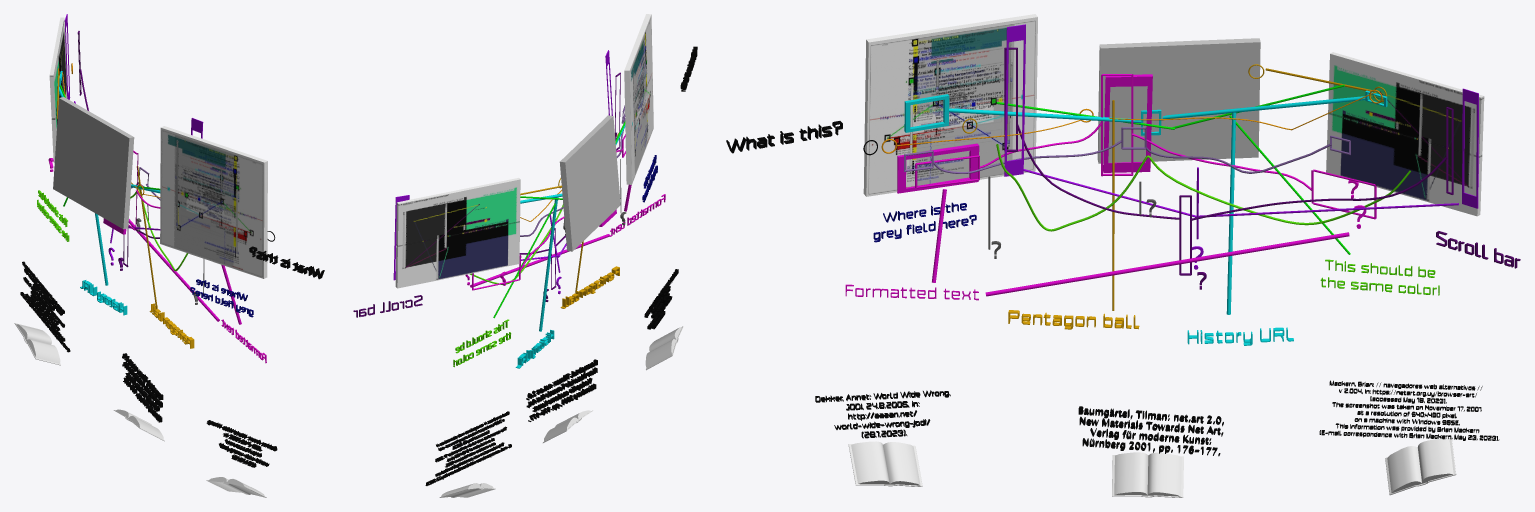
File: JULY_NEW_SCREENSHOT_DIAGRAM_MODEL.fbx
The picture shows the model from 3 angles, left to right: view 1: azimuth 30°, elevation 25°; view 2: azimuth 150°, elevation 25°; view 3: azimuth 270°, elevation 25°; orthographic projection. The views are drawn at different scales.
Parts seen in each view (by area): view 1: screenshot_i03_left, screenshot_i02_middle, text_citation_i01, screenshot_i01_right, text_citation_i02, text_citation_i03, book_model_for_citation_i01, ingame_txt_i07_greyfield, ingame_txt_i05_whatisthis, book_model_for_citation_i03, ingame_txt_i06_colorchange, ingame_txt_i04_history_URL (+4 smaller); view 2: screenshot_i01_right, screenshot_i02_middle, screenshot_i03_left, text_citation_i01, text_citation_i02, book_model_for_citation_i03, text_citation_i03, ingame_txt_i06_colorchange, ingame_txt_i03_pentagon_ball, book_model_for_citation_i01, pCylinder11, PINK_SYSTEM (+5 smaller); view 3: screenshot_i03_left, screenshot_i01_right, screenshot_i02_middle, text_citation_i01, book_model_for_citation_i02, text_citation_i02, book_model_for_citation_i03, book_model_for_citation_i01, PURPLE_SYSTEM, PINK_SYSTEM, text_citation_i03, formatted_text1 (+14 smaller).
Part boxes in pixels (box(x1,y1,x2,y2)): screenshot_i03_left: box(160, 126, 267, 278); screenshot_i02_middle: box(53, 97, 134, 229); text_citation_i01: box(20, 261, 70, 352); screenshot_i01_right: box(49, 17, 67, 162); text_citation_i02: box(122, 353, 163, 422); text_citation_i03: box(206, 420, 277, 467); book_model_for_citation_i01: box(14, 323, 60, 365); ingame_txt_i07_greyfield: box(190, 279, 253, 317); ingame_txt_i05_whatisthis: box(249, 246, 324, 279); book_model_for_citation_i03: box(206, 477, 266, 497); ingame_txt_i06_colorchange: box(37, 190, 69, 241); ingame_txt_i04_history_URL: box(80, 280, 127, 315); screenshot_i01_right: box(395, 178, 520, 288); screenshot_i02_middle: box(559, 115, 620, 251); screenshot_i03_left: box(624, 14, 653, 184); text_citation_i01: box(425, 411, 511, 485); text_citation_i02: box(526, 359, 597, 421); book_model_for_citation_i03: box(645, 326, 683, 370); text_citation_i03: box(644, 269, 678, 329); ingame_txt_i06_colorchange: box(453, 319, 511, 367); ingame_txt_i03_pentagon_ball: box(560, 266, 619, 308); book_model_for_citation_i01: box(439, 483, 495, 497); pCylinder11: box(539, 197, 558, 331); PINK_SYSTEM: box(472, 134, 625, 290); screenshot_i03_left: box(863, 14, 1037, 196); screenshot_i01_right: box(1326, 52, 1484, 216); screenshot_i02_middle: box(1097, 38, 1260, 163); text_citation_i01: box(1319, 380, 1499, 440); book_model_for_citation_i02: box(1112, 452, 1183, 497); text_citation_i02: box(1078, 406, 1223, 456); book_model_for_citation_i03: box(848, 441, 922, 486); book_model_for_citation_i01: box(1385, 438, 1456, 495); PURPLE_SYSTEM: box(1004, 47, 1453, 289); PINK_SYSTEM: box(915, 74, 1376, 219); text_citation_i03: box(815, 390, 950, 438); formatted_text1: box(1103, 74, 1152, 172).
Size of the model in its own units: 8.31 by 22.36 by 34.25.
